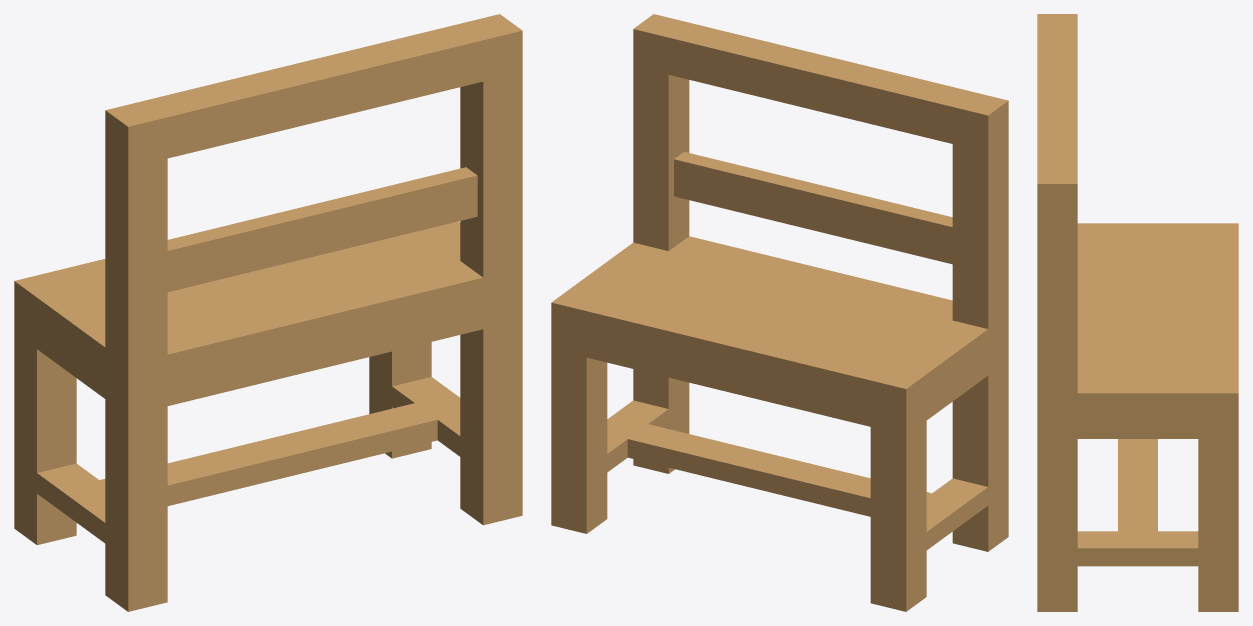
File: bench.glb
The picture shows the model from 3 angles, left to right: view 1: azimuth 30°, elevation 25°; view 2: azimuth 150°, elevation 25°; view 3: azimuth 270°, elevation 25°; orthographic projection. The views are drawn at different scales.
Size of the model in its own units: 4 by 4.7 by 2.
